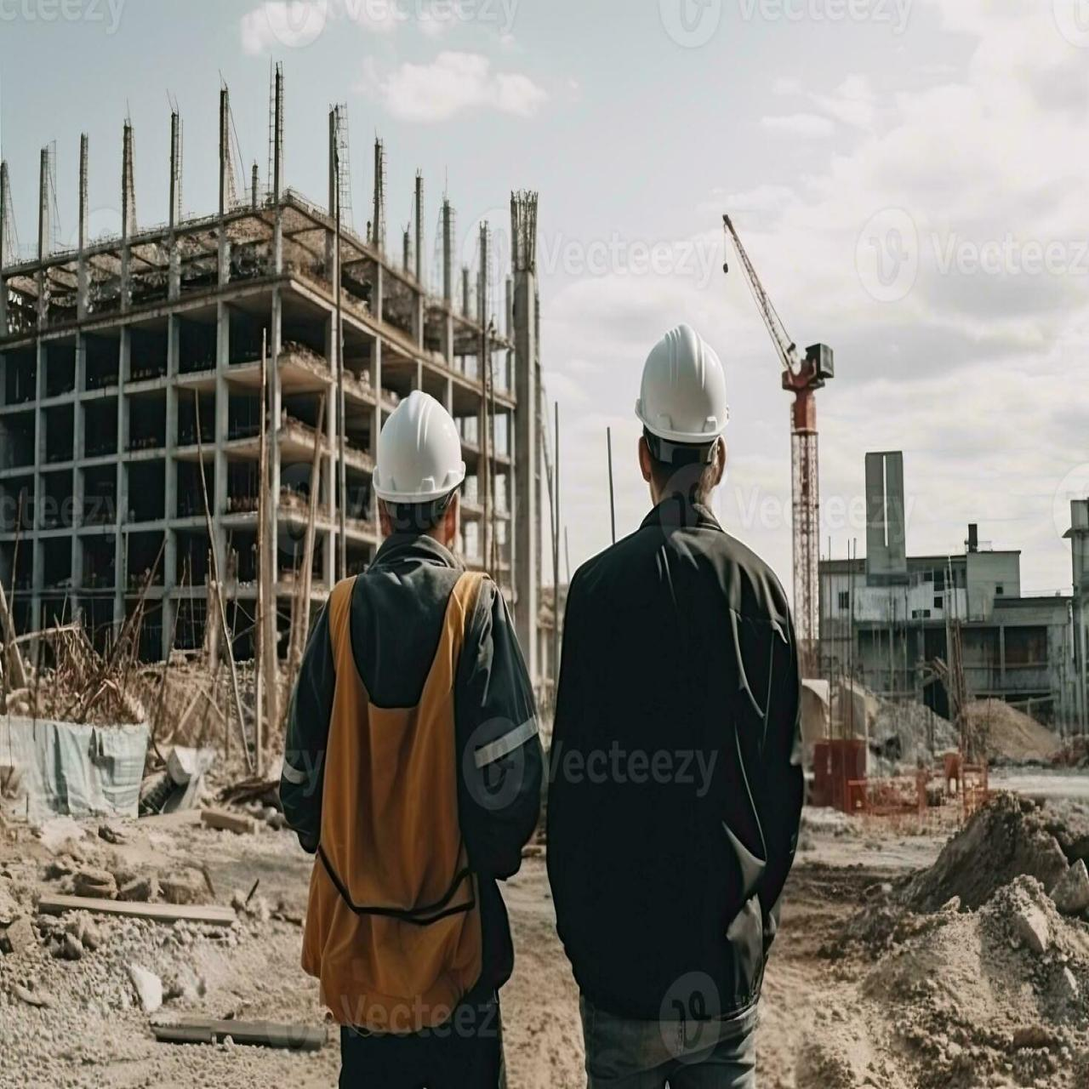NO_Safety_Vest: (319, 570, 513, 1023), (591, 547, 759, 960)
Person: (538, 310, 835, 1089), (268, 385, 549, 1078)
